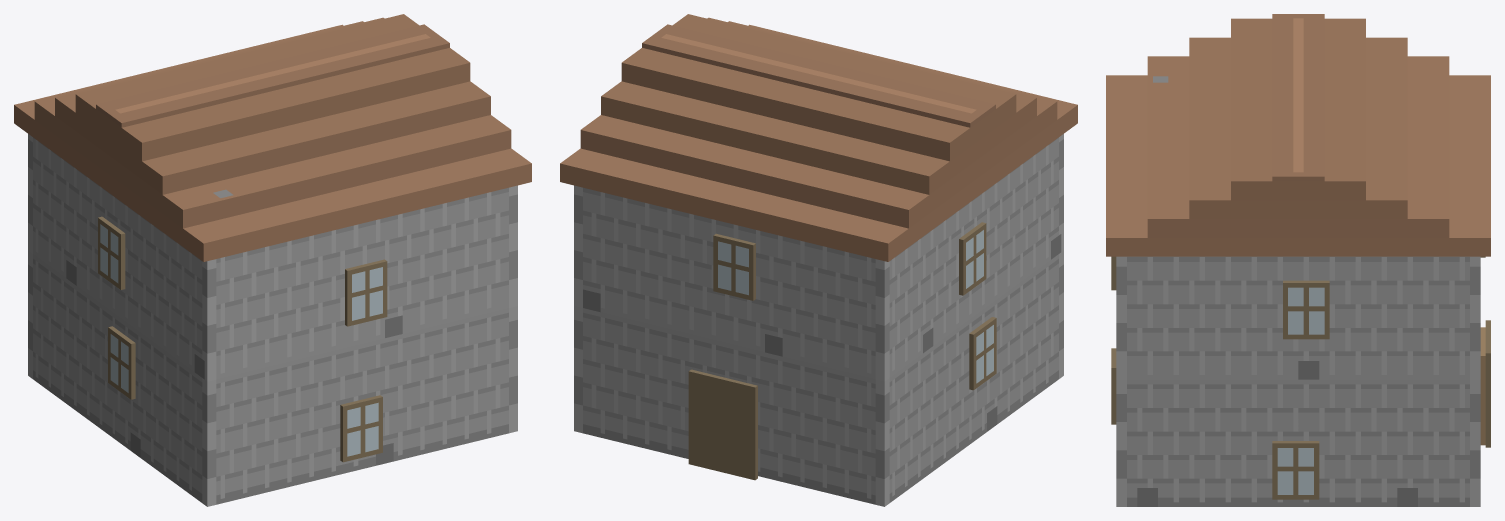
The model's file is molino_04.glb.
The picture shows the model from 3 angles, left to right: view 1: azimuth 30°, elevation 25°; view 2: azimuth 150°, elevation 25°; view 3: azimuth 270°, elevation 25°; orthographic projection.
Visible parts, largest first — view 1: molino_04; view 2: molino_04; view 3: molino_04.
Part boxes in pixels (box(x1,y1,x2,y2)): molino_04: box(14, 14, 531, 506); molino_04: box(560, 14, 1077, 506); molino_04: box(1106, 14, 1490, 506).
Bounding box in the file's own units: 7.4 × 7.1 × 7.4.
